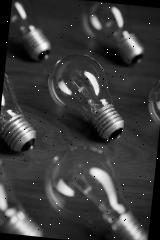lightbulb: (39, 140, 156, 240), (42, 50, 131, 141), (76, 0, 148, 66), (0, 154, 50, 235), (0, 71, 42, 153), (6, 0, 56, 62), (145, 75, 160, 123)
